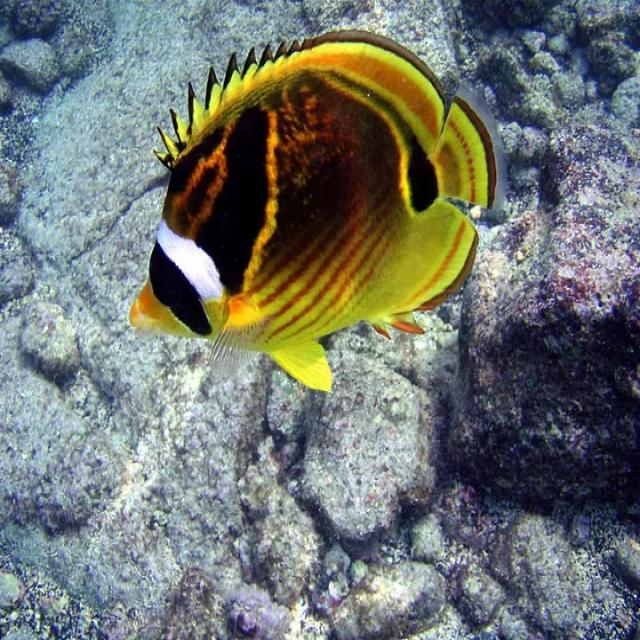ButterflyFish: (133, 34, 500, 399)
